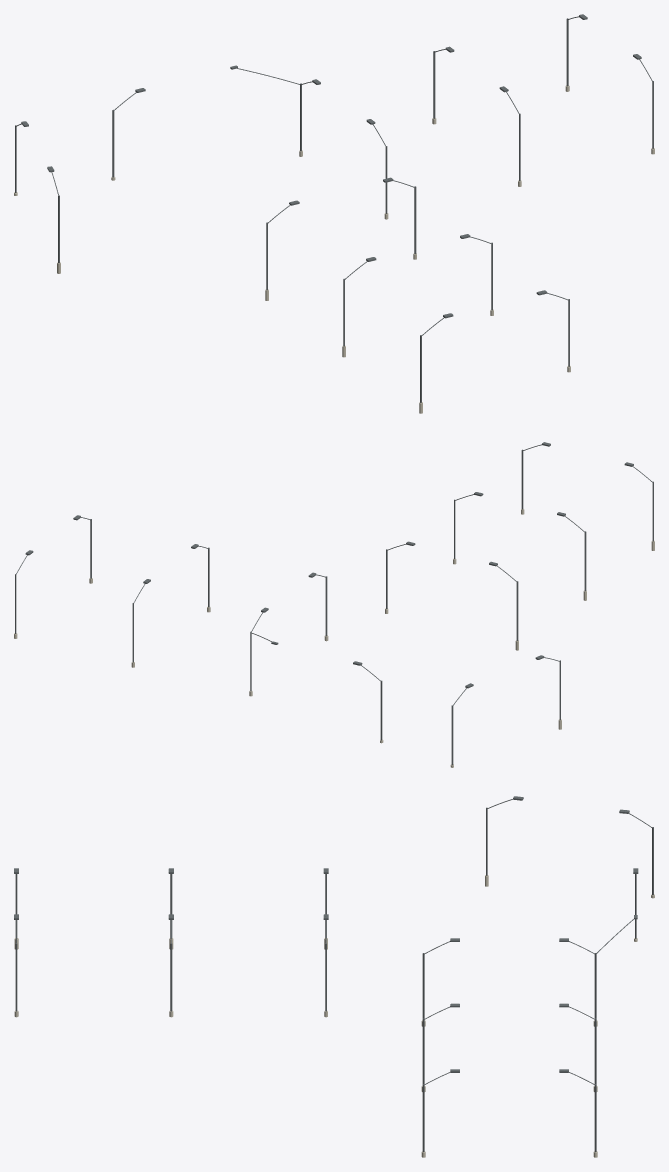
The picture shows the model from 3 angles, top to bottom: view 1: azimuth 30°, elevation 25°; view 2: azimuth 150°, elevation 25°; view 3: azimuth 270°, elevation 25°; orthographic projection. The views are drawn at different scales.
Visible parts, largest first — view 1: buildings_s_-3_1_Dark_Metal; view 2: buildings_s_-3_1_Dark_Metal; view 3: buildings_s_-3_1_Dark_Metal.
Part boxes in pixels (left/top/right/bottom): buildings_s_-3_1_Dark_Metal: left=15, top=14, right=653, bottom=402; buildings_s_-3_1_Dark_Metal: left=15, top=442, right=653, bottom=765; buildings_s_-3_1_Dark_Metal: left=14, top=796, right=653, bottom=1152.
Bounding box in the file's own units: 115 × 17.75 × 112.
